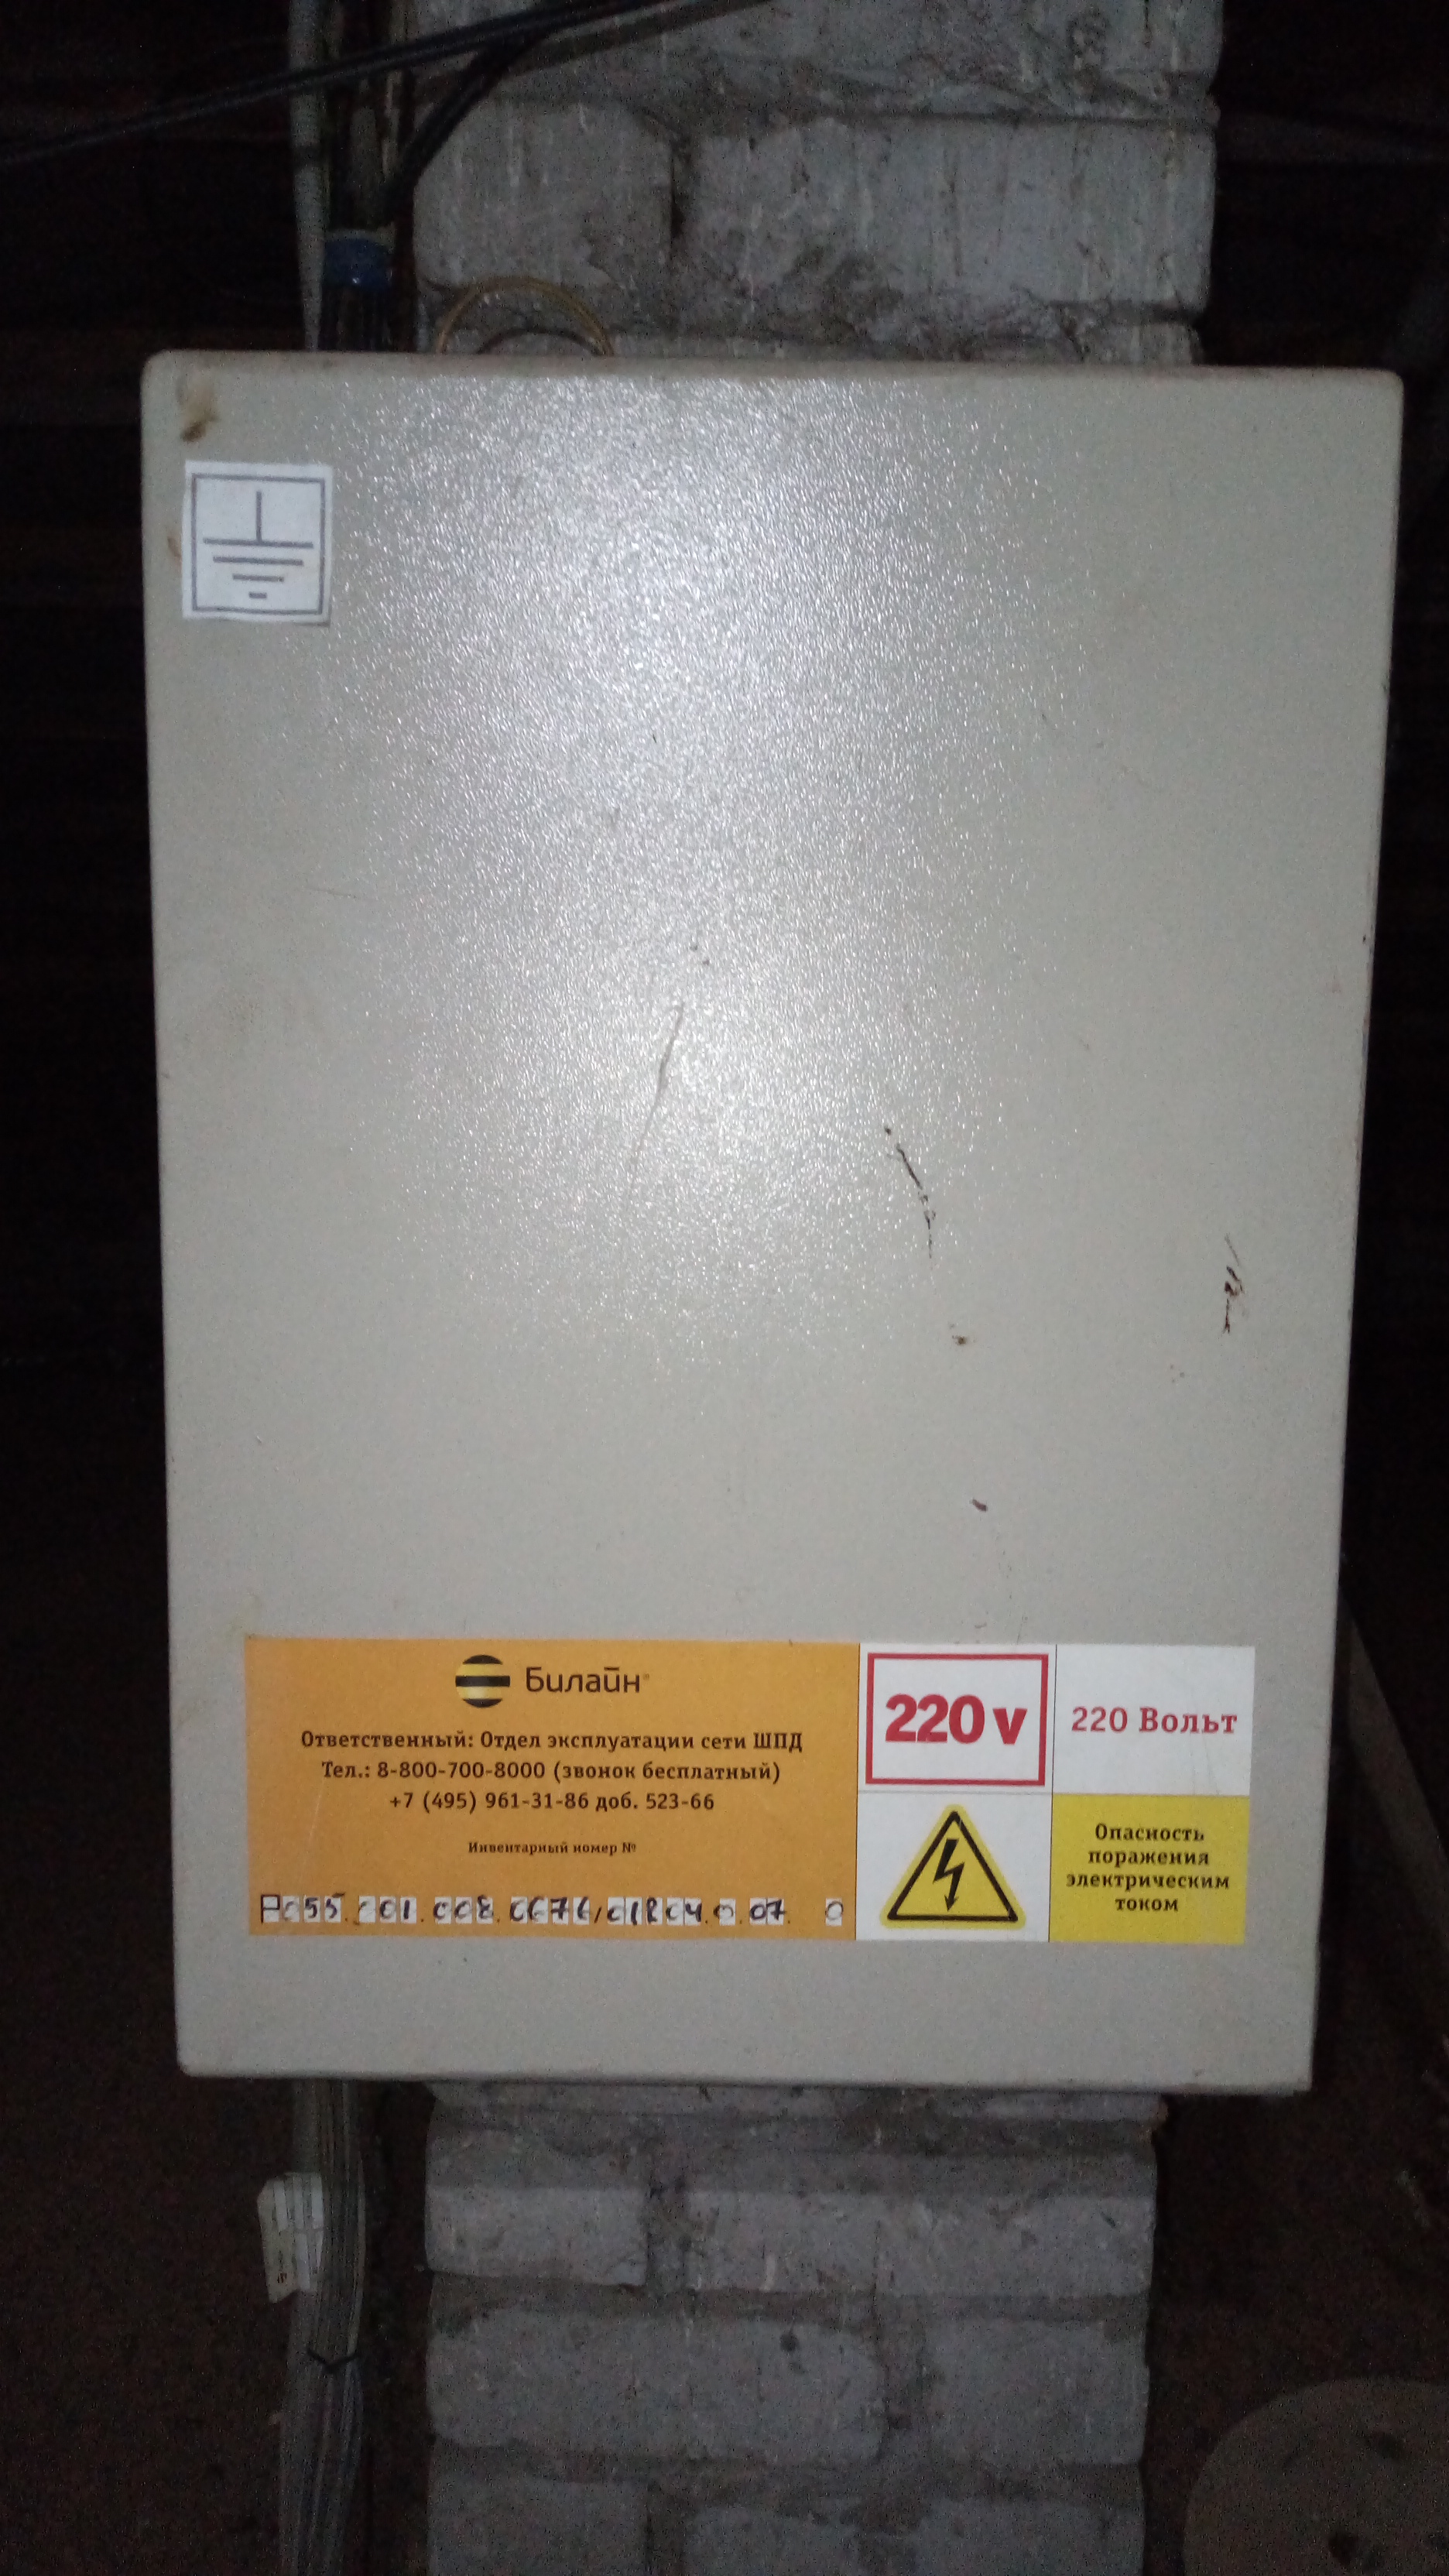sv-5: (120, 327, 1424, 2116)
